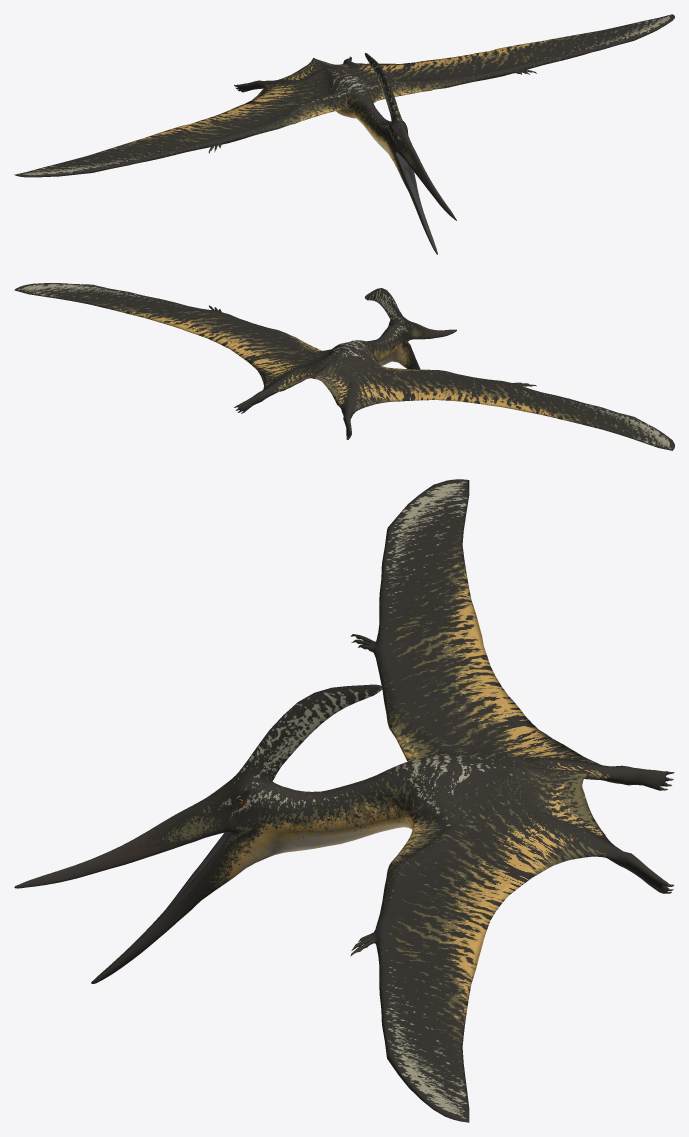
Rendered from Pteranodon.glb.
The picture shows the model from 3 angles, top to bottom: view 1: azimuth 30°, elevation 25°; view 2: azimuth 150°, elevation 25°; view 3: azimuth 270°, elevation 25°; orthographic projection. The views are drawn at different scales.
Visible parts, largest first — view 1: DW_Pteranodon_Adulto_Mayor_mesh; view 2: DW_Pteranodon_Adulto_Mayor_mesh; view 3: DW_Pteranodon_Adulto_Mayor_mesh.
Boxes of the visible parts, x1,y1,x2,y2 form: DW_Pteranodon_Adulto_Mayor_mesh: (14, 14, 674, 254); DW_Pteranodon_Adulto_Mayor_mesh: (14, 283, 674, 450); DW_Pteranodon_Adulto_Mayor_mesh: (14, 479, 674, 1122).
Bounding box in the file's own units: 1 × 0.2174 × 0.4341.
2 materials, 2 textured.
